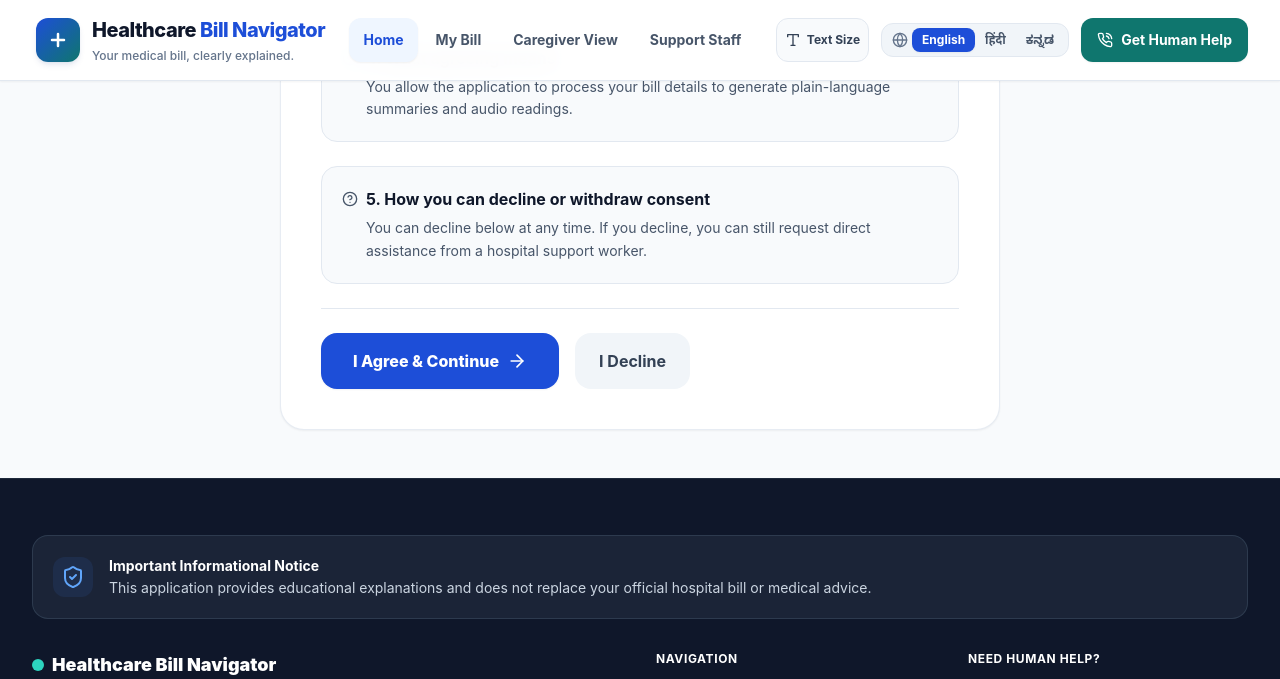
Test: ConsentPage › shows informative limitation message when user declines without implying consent
(page scrolled)
Click the button "I Decline" at (633, 360), box x1=575 y1=332 x2=690 y2=388
(page scrolled)
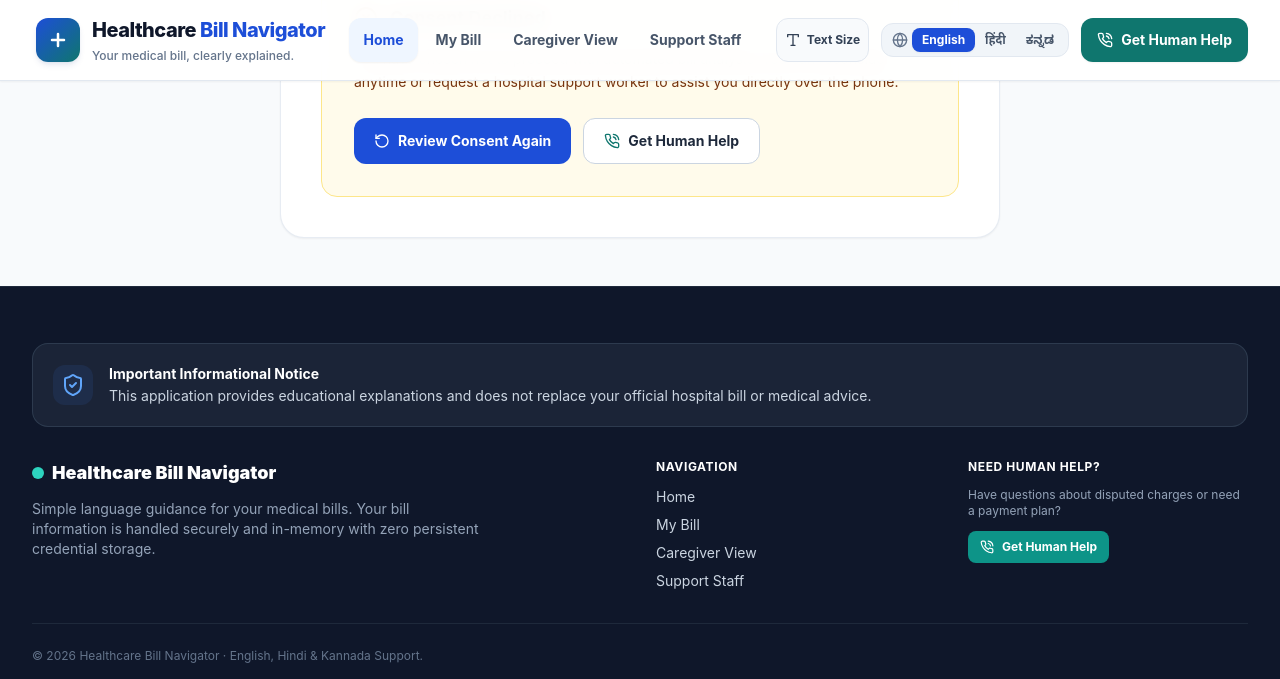
Check: the heading "Consent Declined" is shown, box x1=390 y1=4 x2=546 y2=32
Check: the text "You have chosen not to proceed with automated bill analysis" is shown, box x1=354 y1=50 x2=898 y2=90
Check: the text "Review Consent Again" is shown, box x1=398 y1=130 x2=551 y2=150
